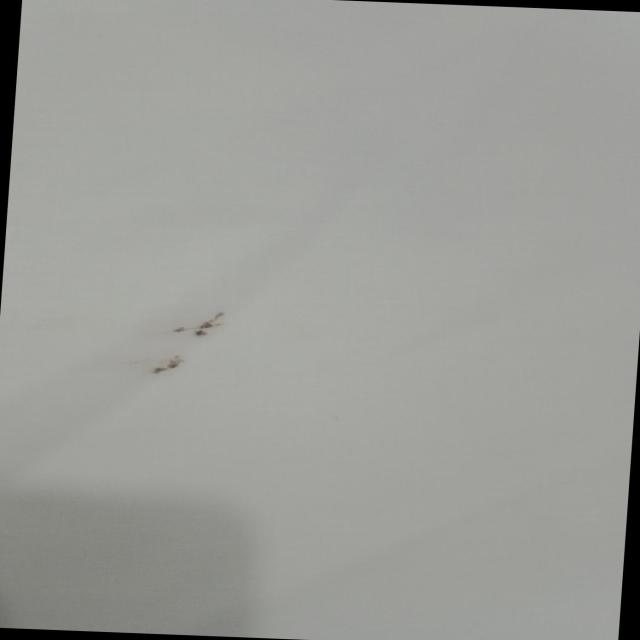stain: (143, 299, 234, 383)
